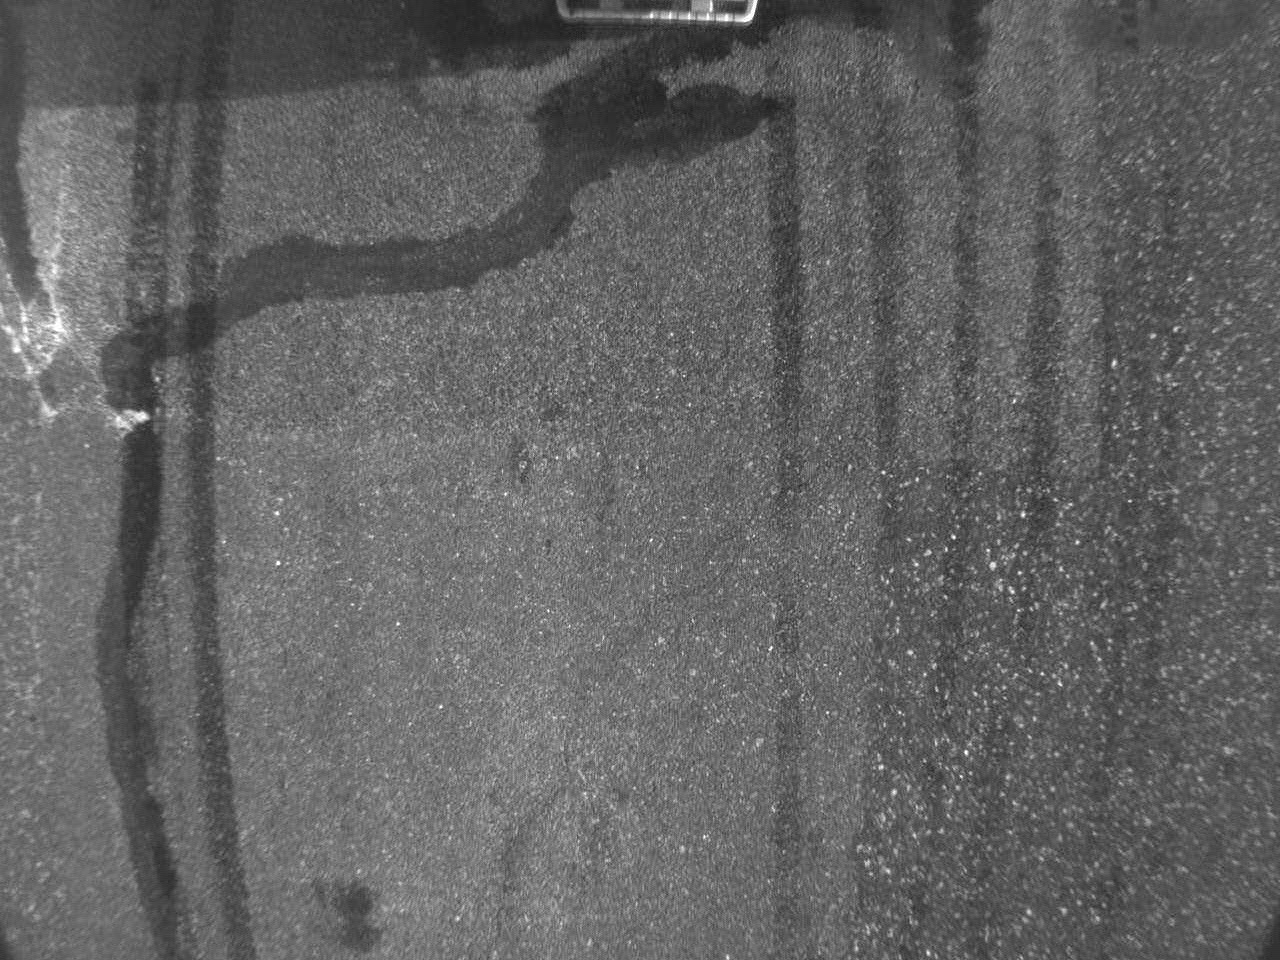sealed: (94, 56, 768, 385)
